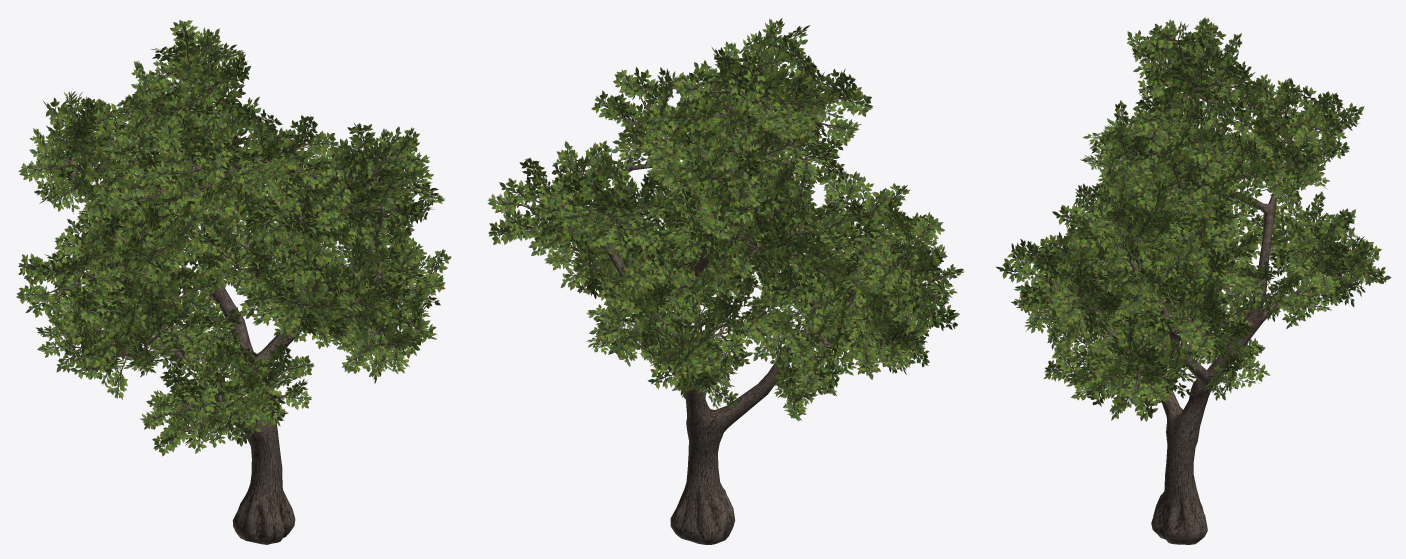
Rendered from este otro.glb.
3 views of the same model, side by side, from view 1: azimuth 30°, elevation 25°; view 2: azimuth 150°, elevation 25°; view 3: azimuth 270°, elevation 25° (orthographic). The views are drawn at different scales.
Parts seen in each view (by area): view 1: crown merged_normal leaves_0, br_low_trunk_0; view 2: crown merged_normal leaves_0, br_low_trunk_0; view 3: crown merged_normal leaves_0, br_low_trunk_0.
Boxes of the visible parts, bbox=[...] form: crown merged_normal leaves_0: bbox=[16, 20, 451, 456]; br_low_trunk_0: bbox=[47, 57, 414, 544]; crown merged_normal leaves_0: bbox=[487, 18, 964, 420]; br_low_trunk_0: bbox=[521, 54, 932, 544]; crown merged_normal leaves_0: bbox=[995, 17, 1391, 421]; br_low_trunk_0: bbox=[1031, 50, 1349, 544].
Bounding box in the file's own units: 14.35 × 16.06 × 11.73.
2 materials, 2 textured.
